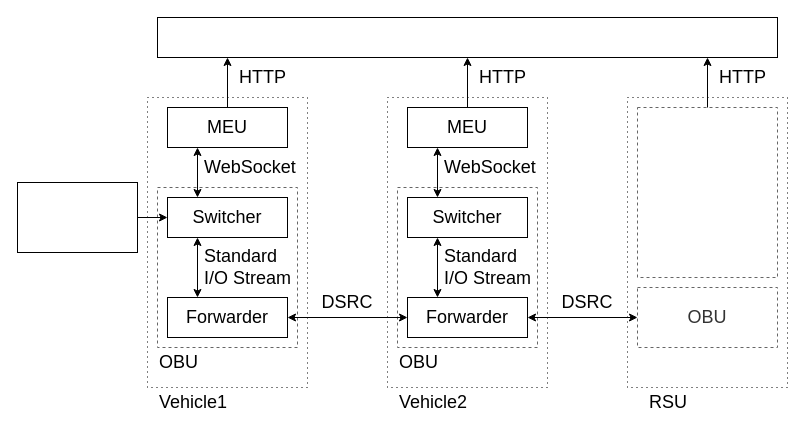
Some shapes in this 805 by 435 pixel diagram are drawn without their labels. The shapes that lost their labels are listed below. From the top down, each one's centre as x and y in pixels, then its label:
At [467,37]: "Cloud".
At [707,192]: "Serverless Platform (Mee6aaS)".
At [77,217]: "Data Generator".
